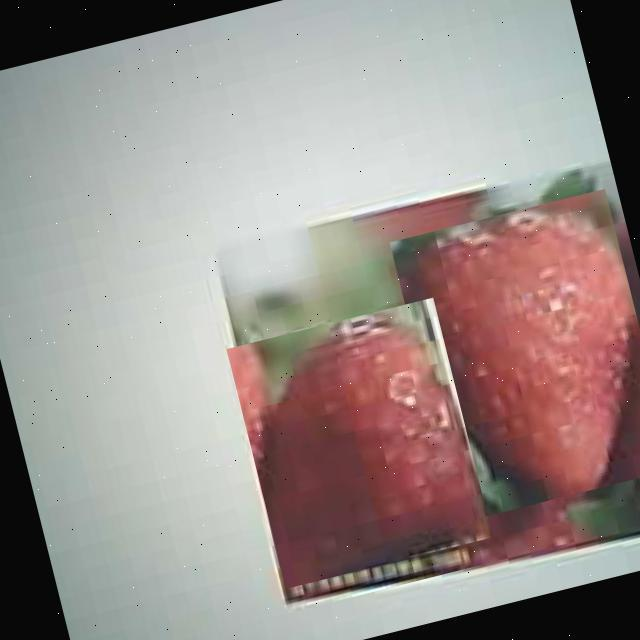ripe: (389, 188, 640, 522), (226, 297, 493, 588)
